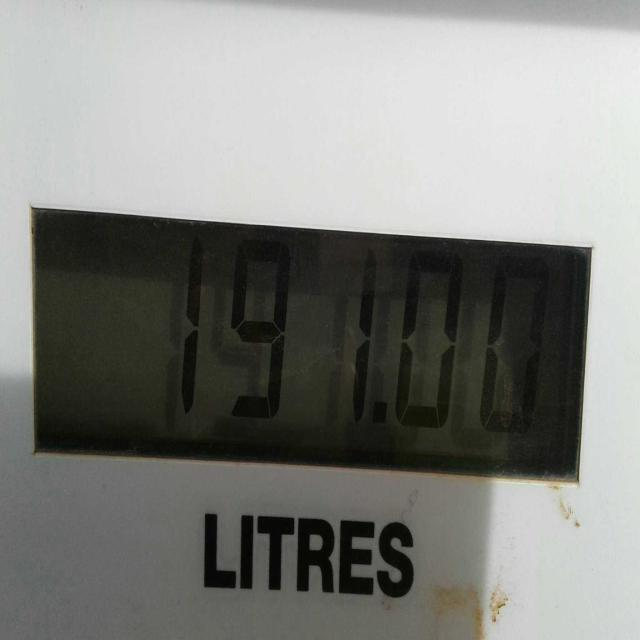.: (369, 386, 396, 436)
0: (390, 232, 478, 451), (474, 240, 556, 468)
1: (323, 242, 384, 438), (157, 235, 217, 410)
9: (224, 241, 293, 415)
